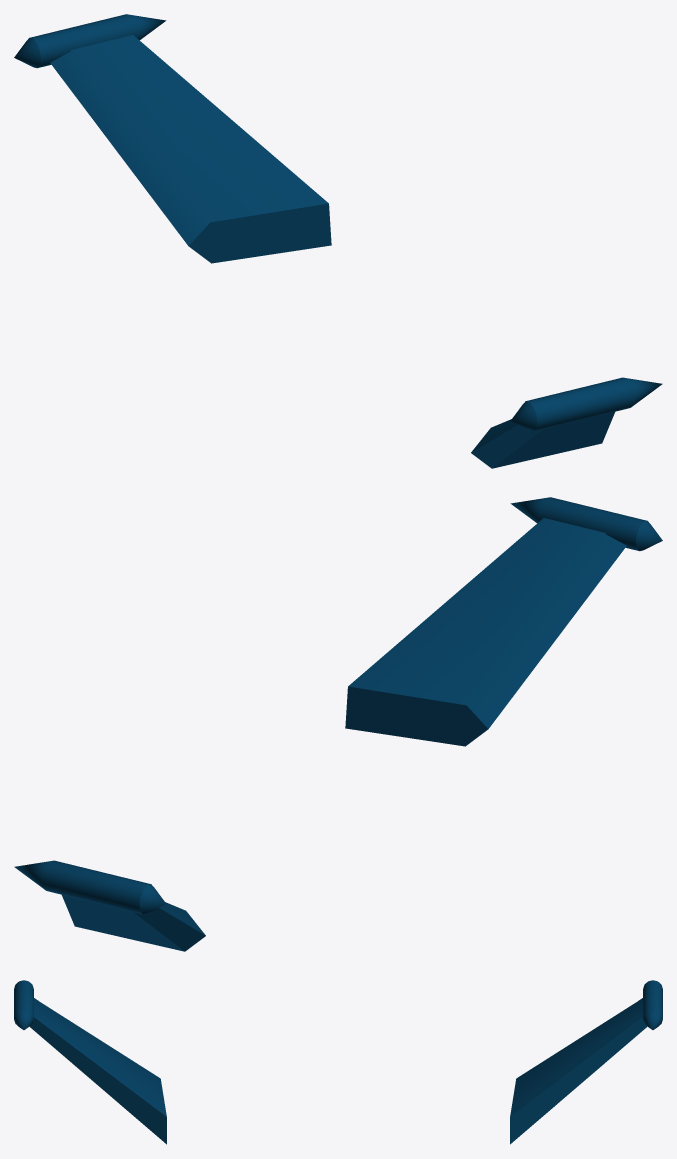
Rendered from SSv1_SWings_v2.FBX.
3 renders of one model, top to bottom at view 1: azimuth 30°, elevation 25°; view 2: azimuth 150°, elevation 25°; view 3: azimuth 270°, elevation 25°, orthographic. The views are drawn at different scales.
Parts seen in each view (by area): view 1: SSv1_SWings_v2; view 2: SSv1_SWings_v2; view 3: SSv1_SWings_v2.
Boxes of the visible parts, x1,y1,x2,y2 form: SSv1_SWings_v2: [14, 14, 662, 468]; SSv1_SWings_v2: [14, 497, 662, 951]; SSv1_SWings_v2: [14, 980, 662, 1144].
Size of the model in its own units: 10.11 by 7.98 by 43.78.
